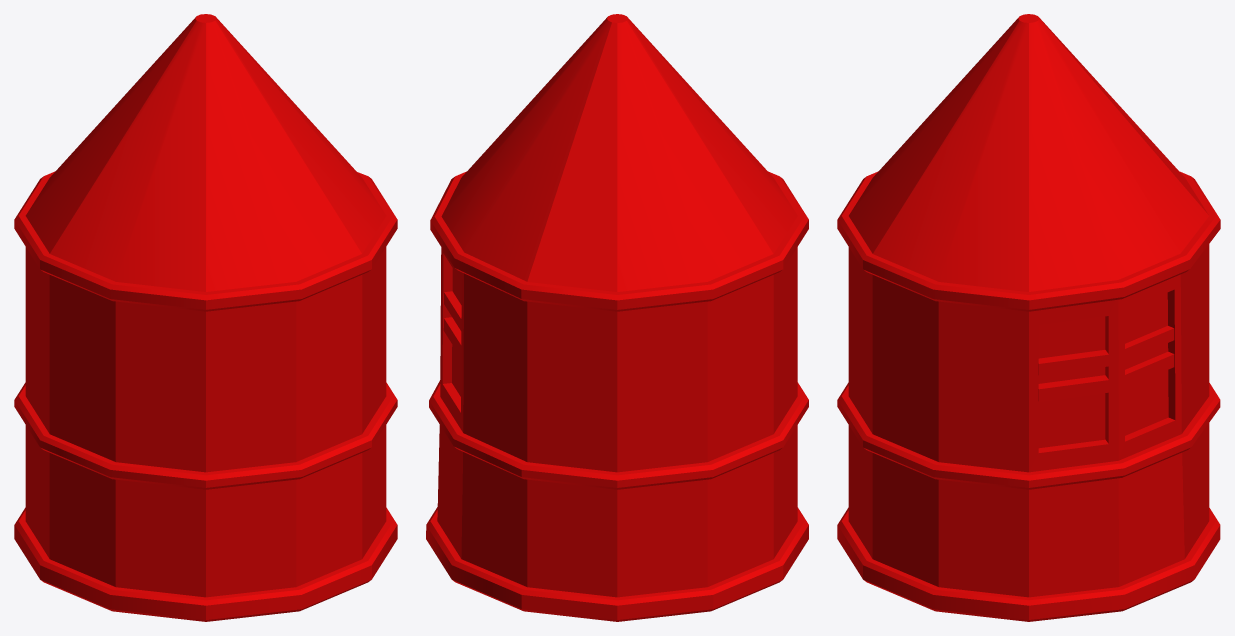
File: Projectile.fbx
The picture shows the model from 3 angles, left to right: view 1: azimuth 30°, elevation 25°; view 2: azimuth 150°, elevation 25°; view 3: azimuth 270°, elevation 25°; orthographic projection.
Parts seen in each view (by area): view 1: patrone; view 2: patrone; view 3: patrone.
Boxes of the visible parts, <box> form: patrone: <box>14,14,397,621</box>; patrone: <box>426,14,808,621</box>; patrone: <box>837,14,1220,621</box>.
Size of the model in its own units: 0.0357 by 0.0539 by 0.0357.
